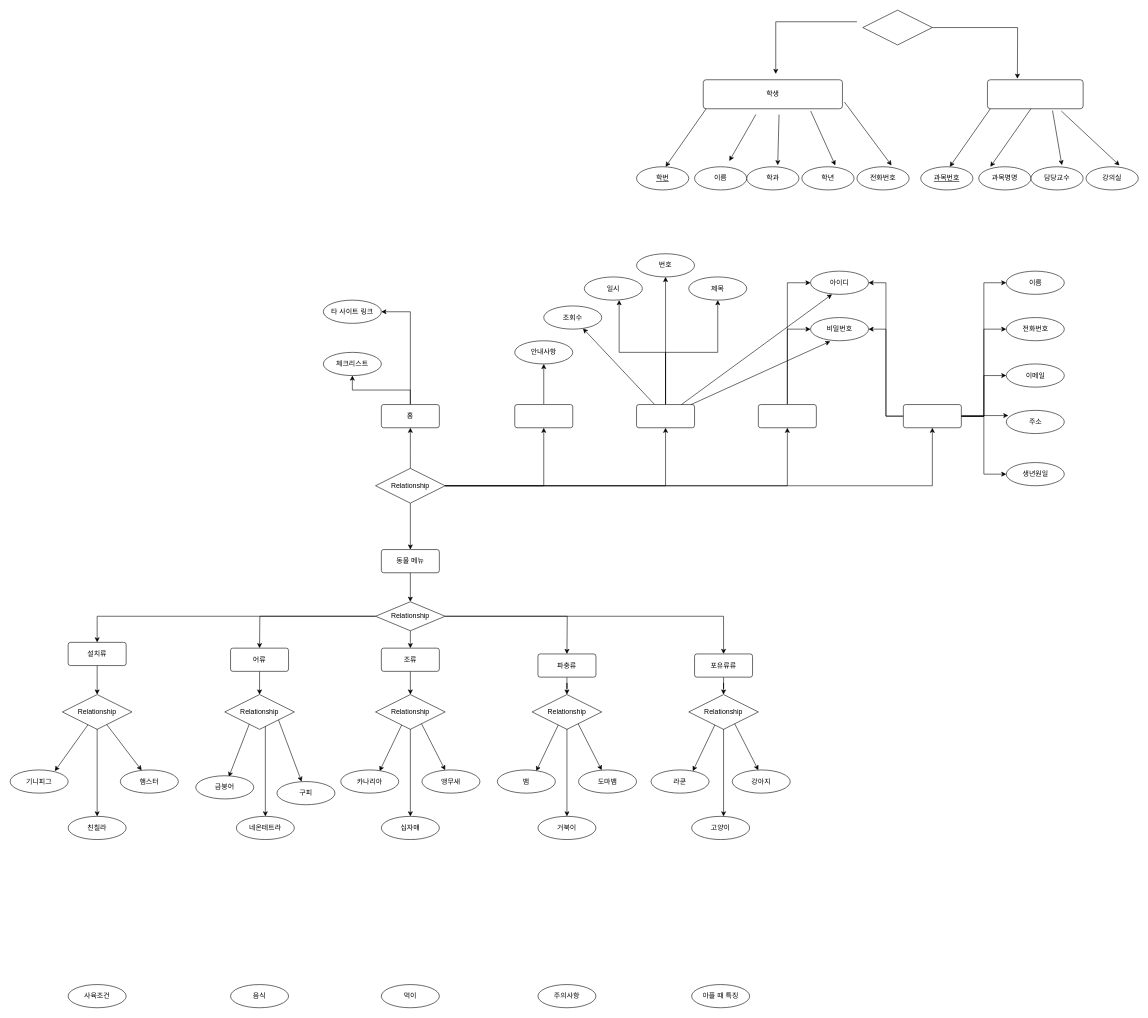
Image size: 1148x1018. Some labels were removed from this diagram. The shapes that lost their labels are listed below. From the top down, each one's box as (x1, y1, x2, y2) in pixels, then its label:
(862, 10, 932, 45): 수강신청
(987, 79, 1083, 109): 과목
(514, 404, 573, 428): 공지사항
(636, 404, 695, 428): 자유게시판
(758, 404, 816, 428): 로그인
(903, 404, 961, 428): 회원가입
